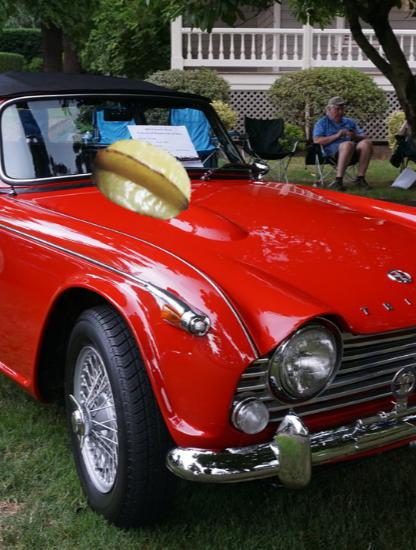Carambula: (91, 125, 198, 232)
